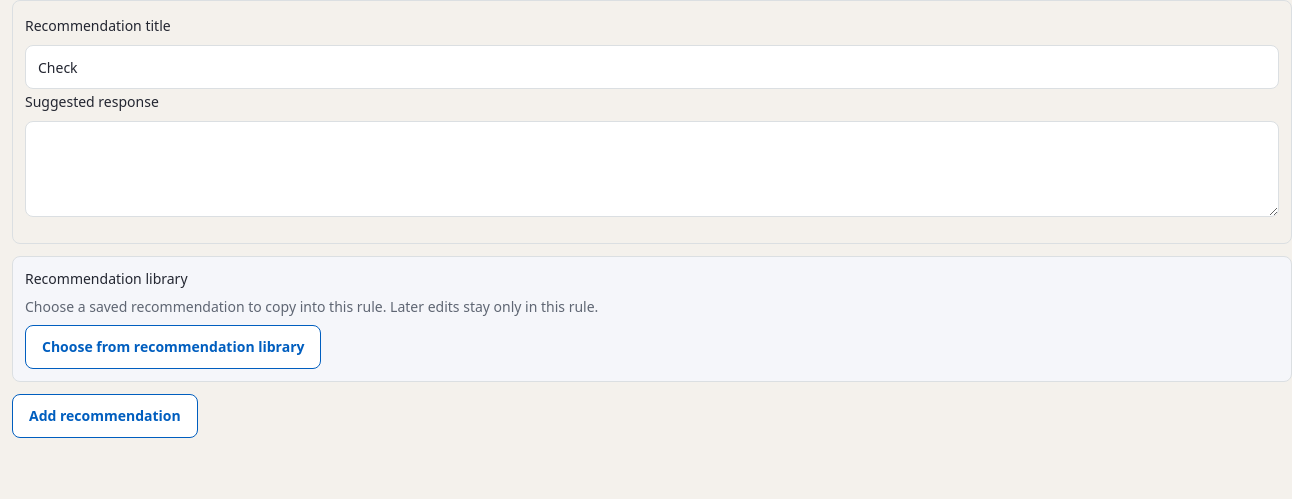
Scenario: RecommendationFields editing › stays open while typing the first letter of the response until Done
The width and height of the screenshot is (1292, 499).
Type "f" into the text box labelled "Suggested response" at (652, 169), box [25, 121, 1279, 217]
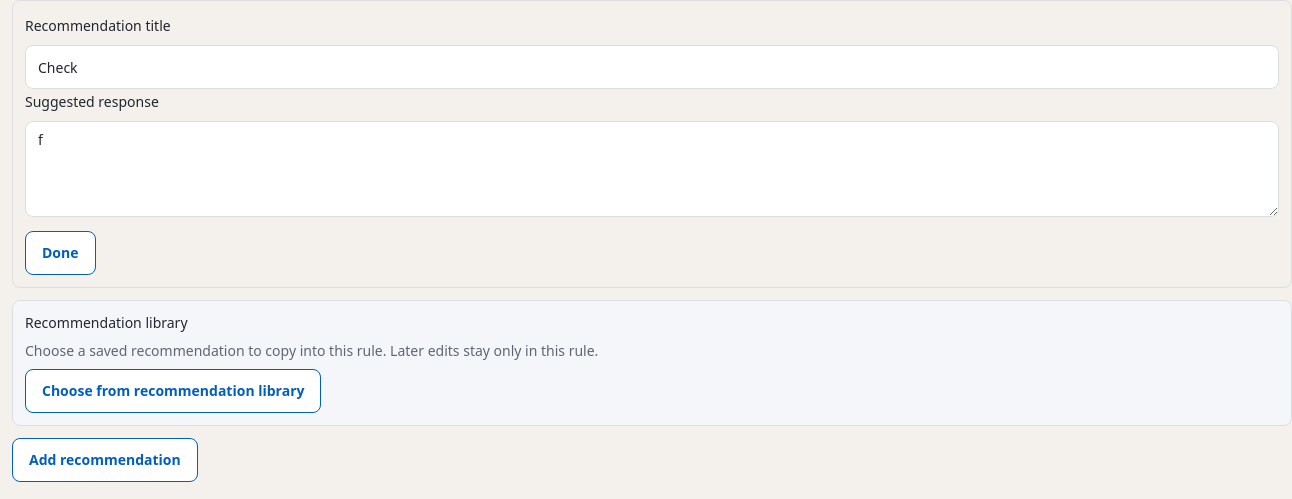
Click the button "Done" at (60, 253), box [25, 231, 96, 275]
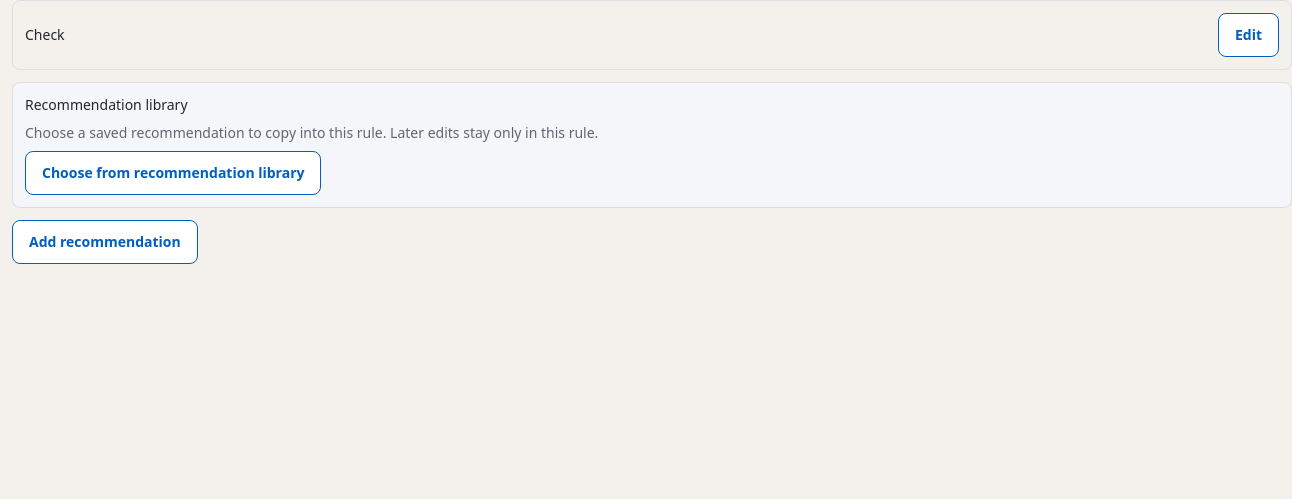
Expected: the label labelled "Suggested response" is gone
